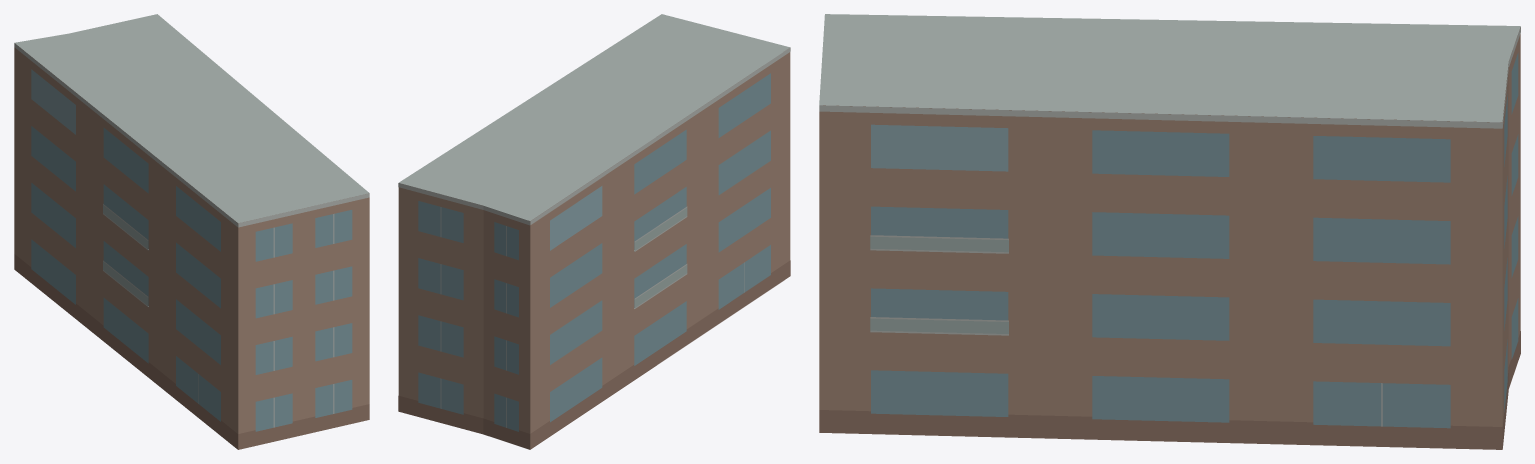
The model's file is survey-upis-32643653.glb.
3 renders of one model, left to right at view 1: azimuth 30°, elevation 25°; view 2: azimuth 150°, elevation 25°; view 3: azimuth 270°, elevation 25°, orthographic. The views are drawn at different scales.
Parts seen in each view (by area): view 1: survey-upis-32643653.tmp; view 2: survey-upis-32643653.tmp; view 3: survey-upis-32643653.tmp.
Part boxes in pixels (x1,y1,x2,y2): survey-upis-32643653.tmp: (14,14,369,449); survey-upis-32643653.tmp: (398,14,790,449); survey-upis-32643653.tmp: (819,14,1520,449).
Bounding box in the file's own units: 9.07 × 12.75 × 24.77.
